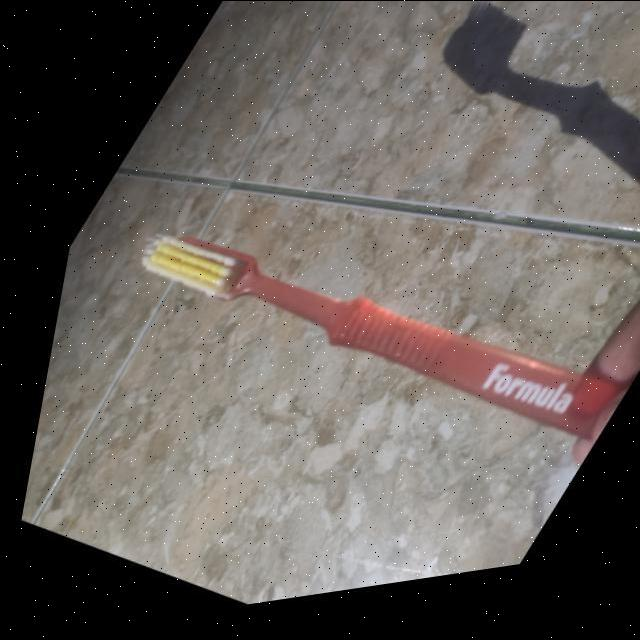toothbrush: (74, 147, 640, 527)
